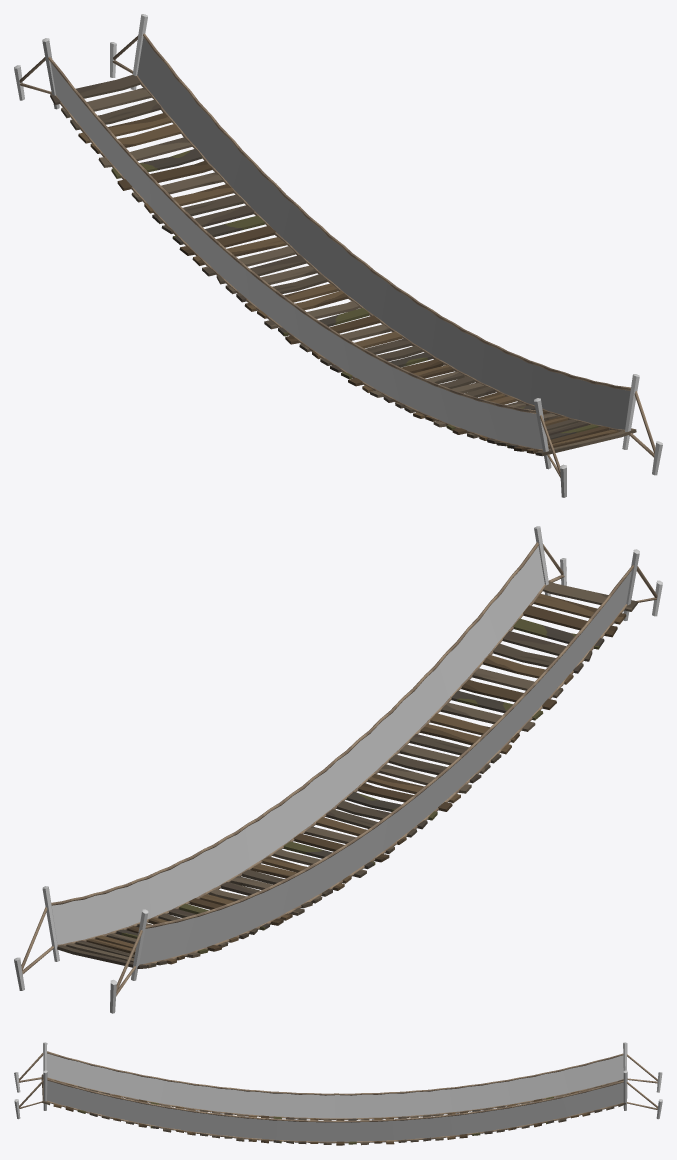
Rendered from SM_Bld_Ropebridge_03.fbx.
3 views of the same model, one above another, from view 1: azimuth 30°, elevation 25°; view 2: azimuth 150°, elevation 25°; view 3: azimuth 270°, elevation 25° (orthographic). The views are drawn at different scales.
Visible parts, largest first — view 1: SM_Bld_Ropebridge_03; view 2: SM_Bld_Ropebridge_03; view 3: SM_Bld_Ropebridge_03.
Part boxes in pixels (x1,y1,x2,y2): SM_Bld_Ropebridge_03: (14, 14, 662, 497); SM_Bld_Ropebridge_03: (14, 526, 662, 1013); SM_Bld_Ropebridge_03: (14, 1042, 662, 1145).
Bounding box in the file's own units: 258 × 300 × 2325.
